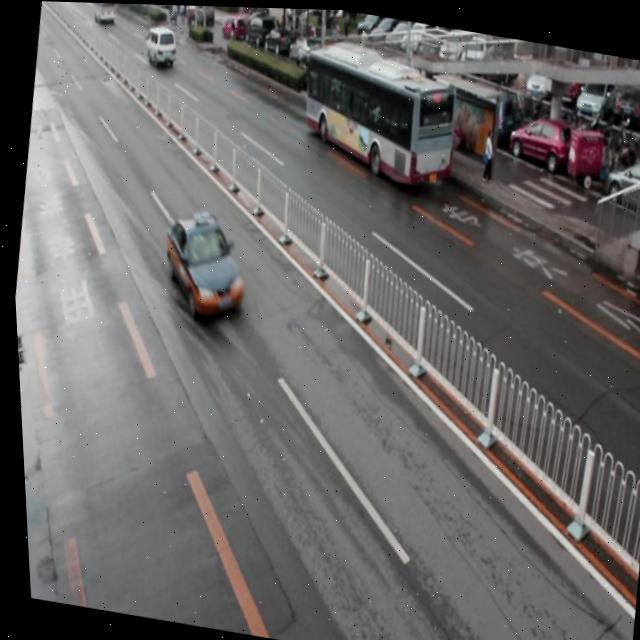car: (153, 207, 249, 322)
truck: (144, 24, 179, 68)
van: (292, 45, 460, 188)
